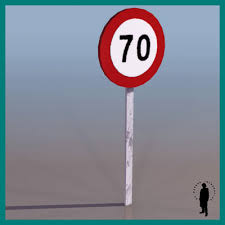Speed_limit_70km: (98, 7, 166, 88)
